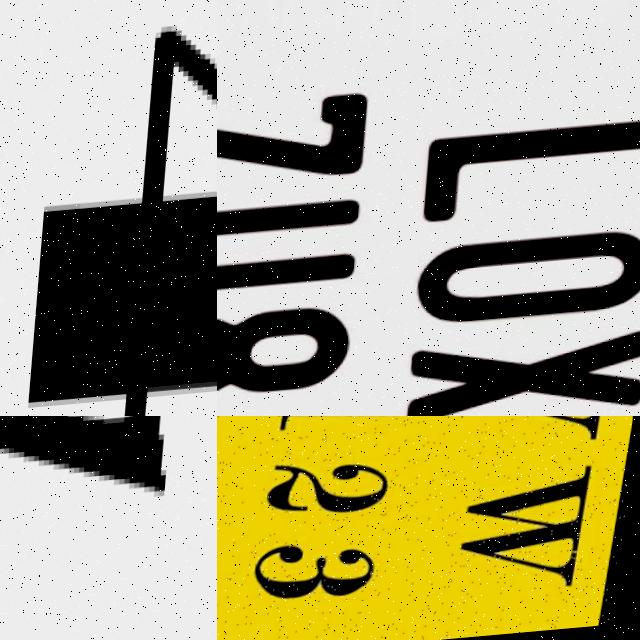0: (420, 233, 640, 335)
1: (272, 416, 430, 454)
2: (267, 450, 412, 536)
3: (250, 536, 393, 615)
7: (217, 94, 375, 200)
8: (217, 307, 359, 412)
L: (429, 126, 640, 227)
U: (217, 200, 368, 303)
X: (409, 339, 640, 416)
